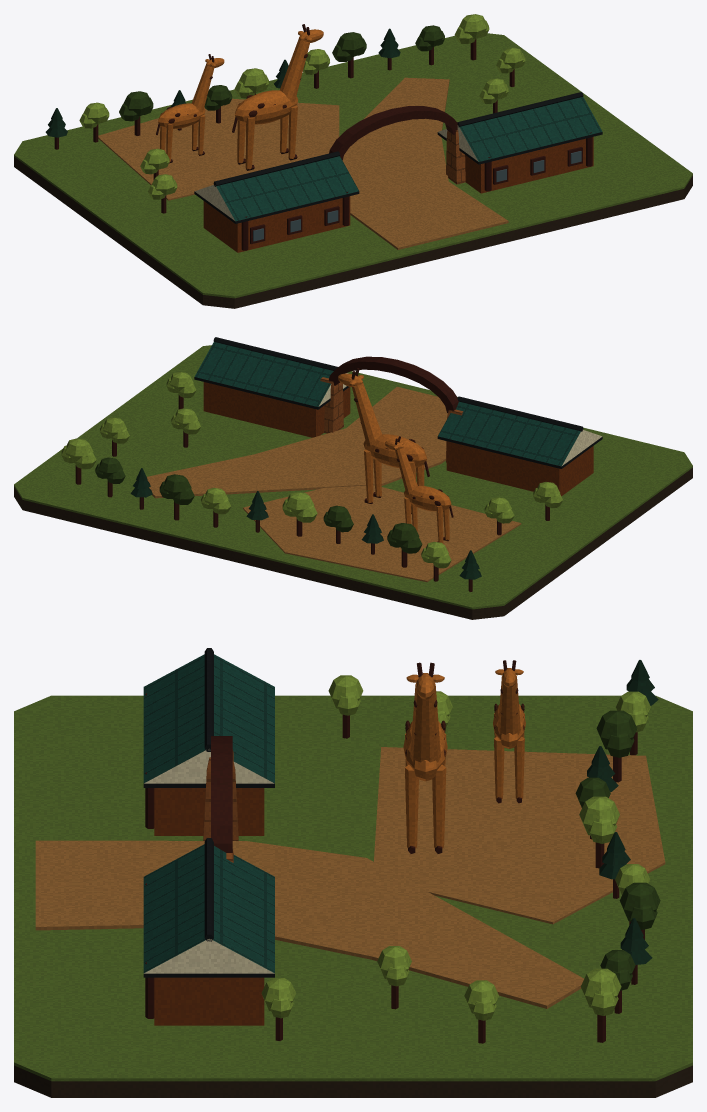
File: chimelong-safari.glb
3 views of the same model, one above another, from view 1: azimuth 30°, elevation 25°; view 2: azimuth 150°, elevation 25°; view 3: azimuth 270°, elevation 25° (orthographic). The views are drawn at different scales.
Visible parts, largest first — view 1: 广州长隆野生动物世界; view 2: 广州长隆野生动物世界; view 3: 广州长隆野生动物世界.
Part boxes in pixels (left/top/right/bottom): 广州长隆野生动物世界: left=14, top=14, right=692, bottom=308; 广州长隆野生动物世界: left=14, top=337, right=692, bottom=619; 广州长隆野生动物世界: left=14, top=648, right=692, bottom=1097.
Size of the model in its own units: 10.8 by 2.95 by 8.1.
15 materials, 14 textured.
